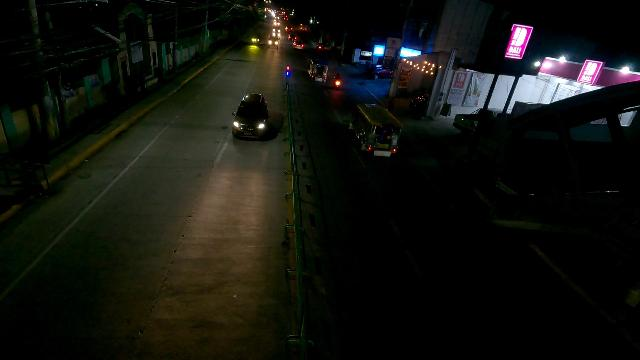car: (232, 92, 269, 139), (267, 32, 280, 49), (293, 38, 305, 49), (272, 32, 280, 39)
jeepney: (347, 103, 401, 159), (308, 57, 329, 82)
